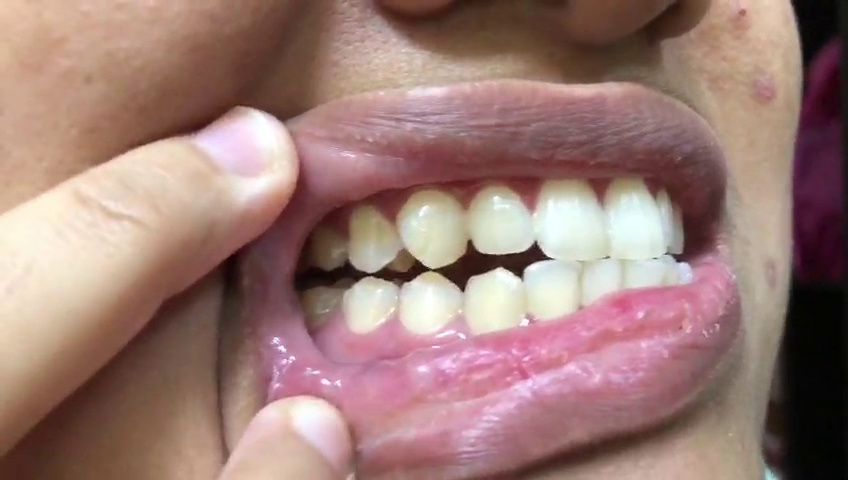1st Molar: (294, 286, 341, 333)
1st Premolar: (400, 271, 463, 333), (350, 203, 404, 273)
2nd Premolar: (344, 276, 399, 337), (312, 219, 350, 271)
Canine: (398, 186, 471, 268), (464, 266, 524, 333)
Central Incisor: (533, 172, 610, 262), (603, 172, 667, 259)
Lateral Incisor: (468, 187, 536, 254), (524, 263, 583, 320)
